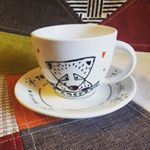cups: (29, 22, 138, 100)
